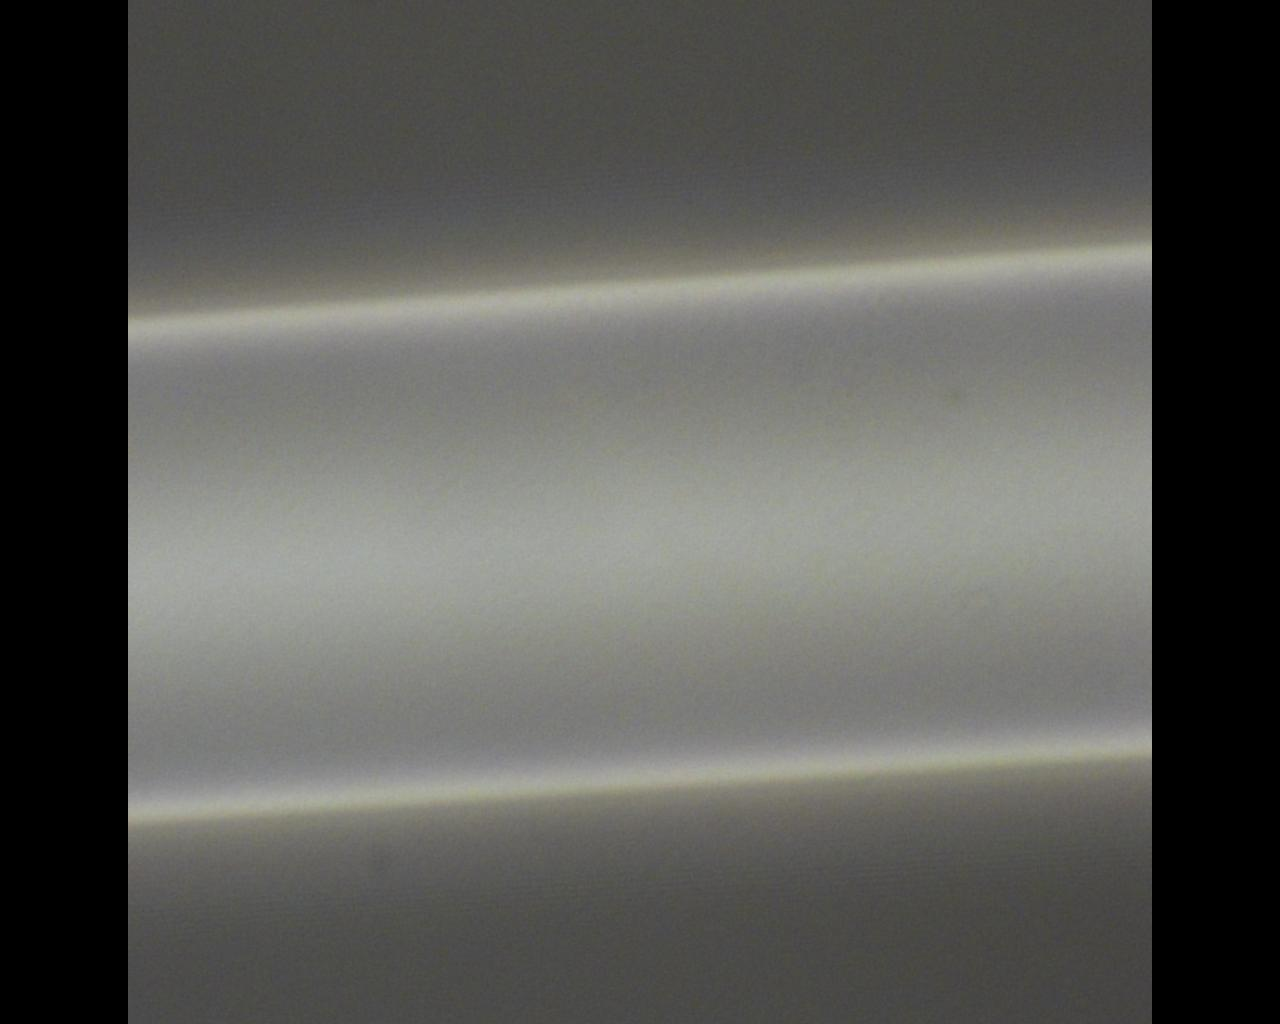fiber: (688, 0, 870, 501), (270, 501, 317, 1024)
